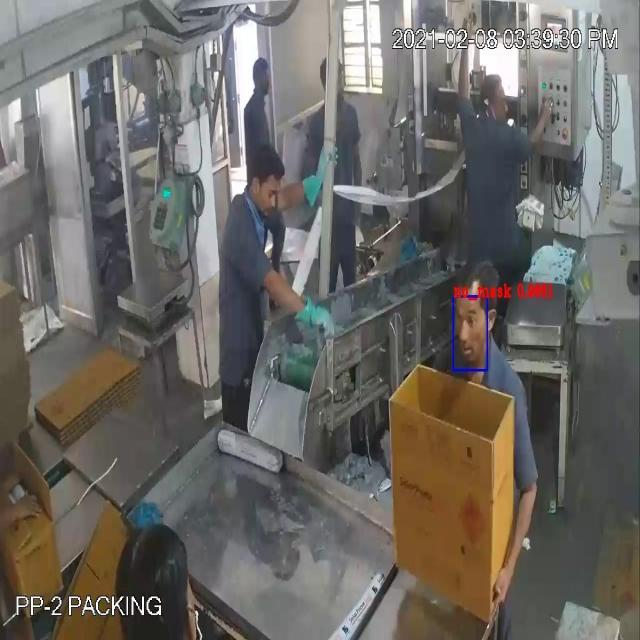Gloves: (56, 85, 516, 534)
